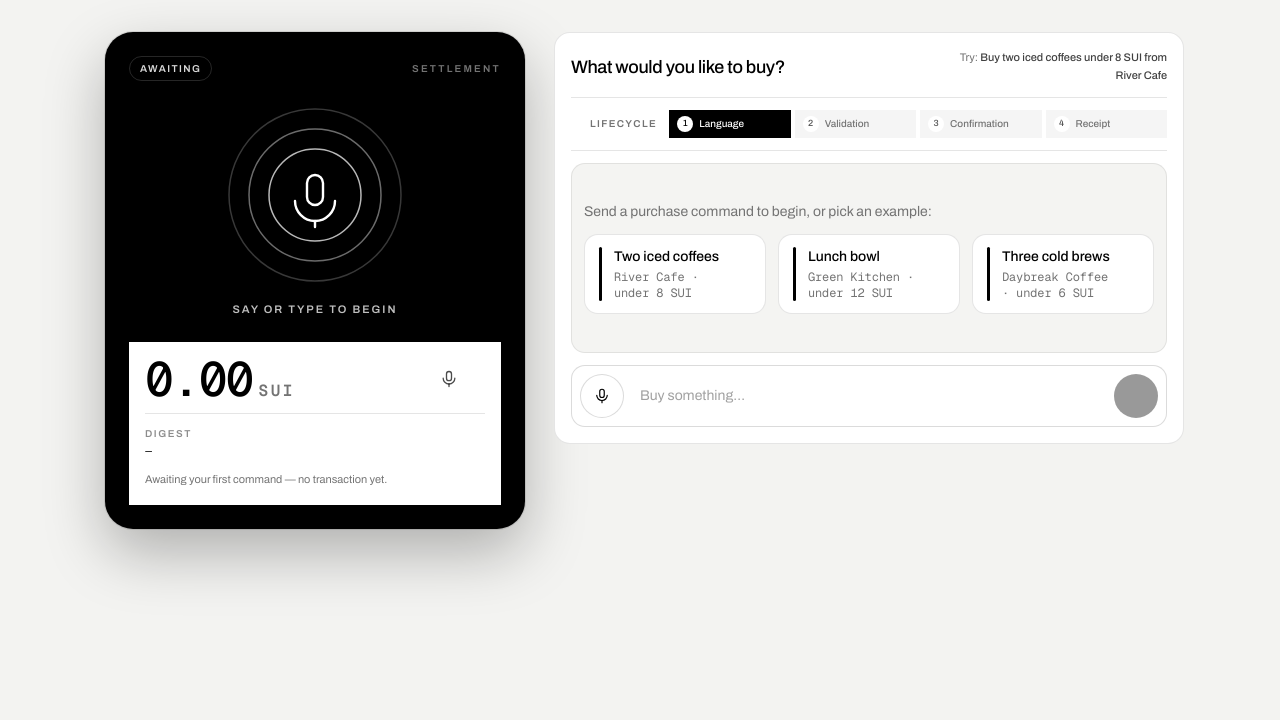
Test case: CommerceChat — send and inline preview › clears the composer after a successful send
The width and height of the screenshot is (1280, 720).
Type "Buy two iced coffees under 8 SUI from River Cafe" into the text box at (869, 396), box [632,374,1106,418]
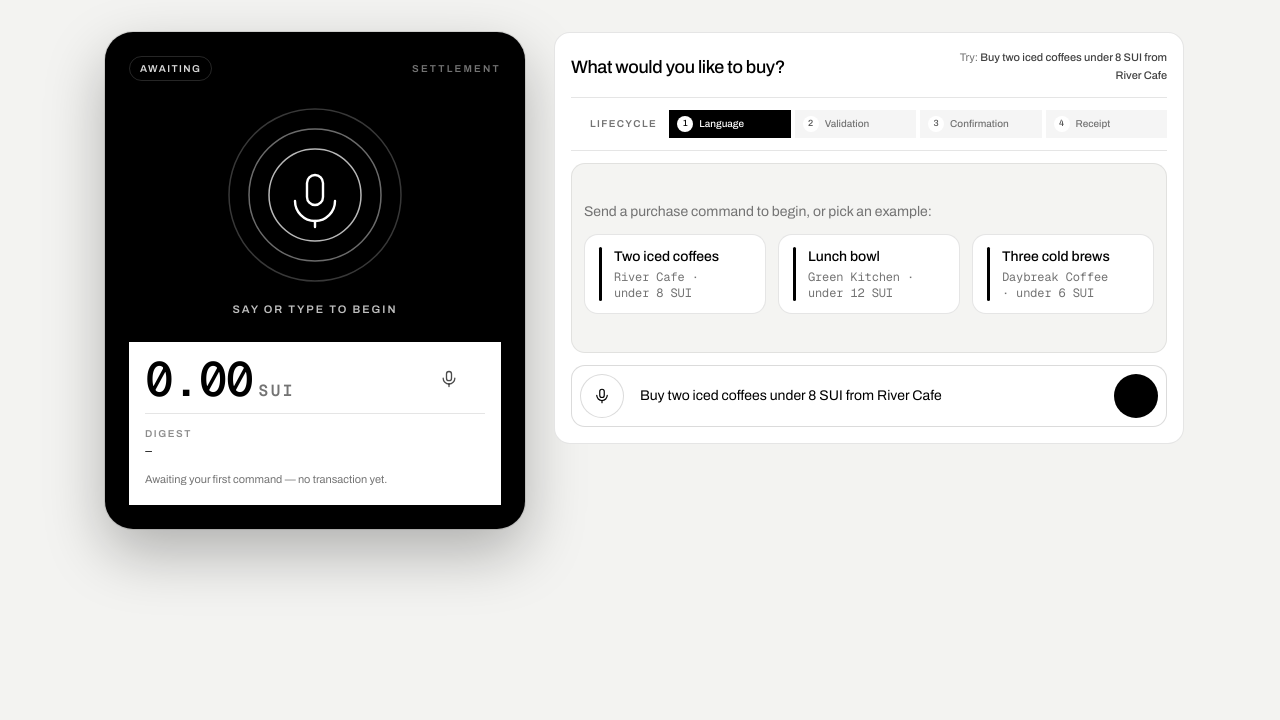
Click the button named "send" at (1136, 396), box [1114,374,1158,418]
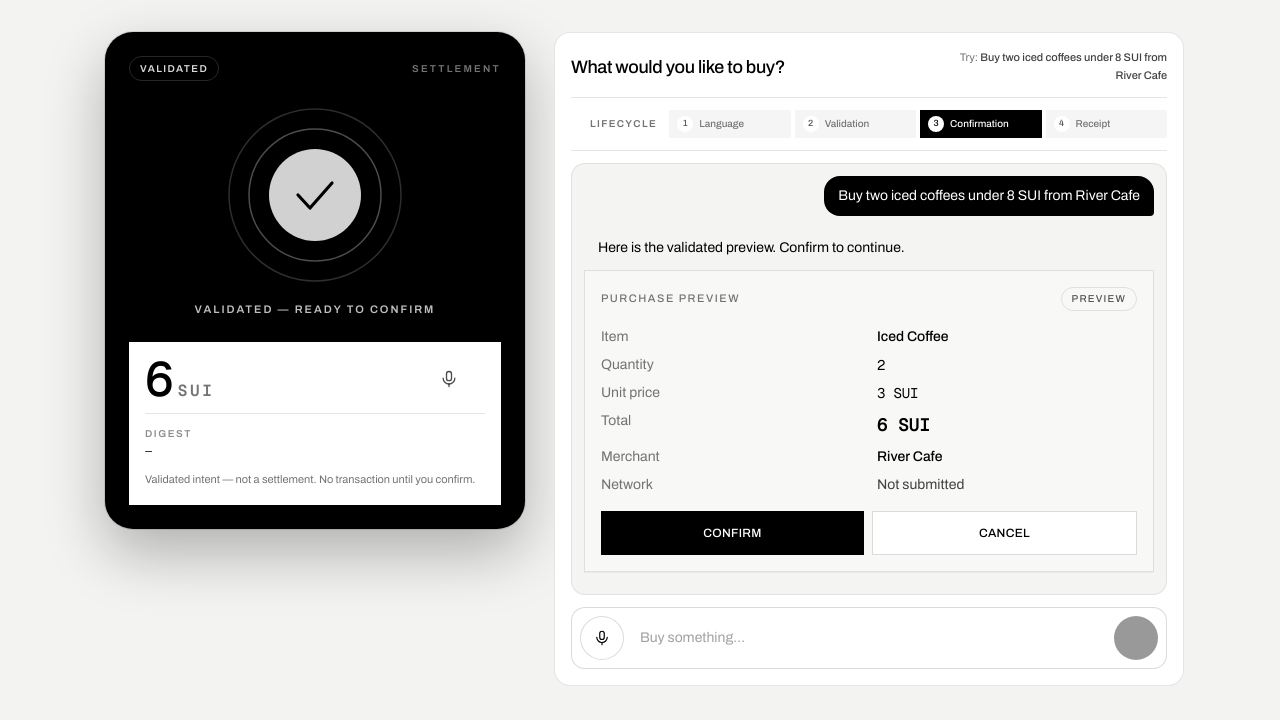
Expected: the text "Iced Coffee" is shown, [877,329,949,344]
Expected: the text box with placeholder "Buy something…" is empty, [632,616,1106,660]
